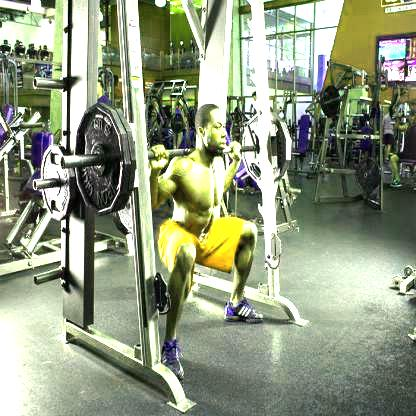Barbell: (59, 154, 67, 171), (32, 180, 40, 190)
